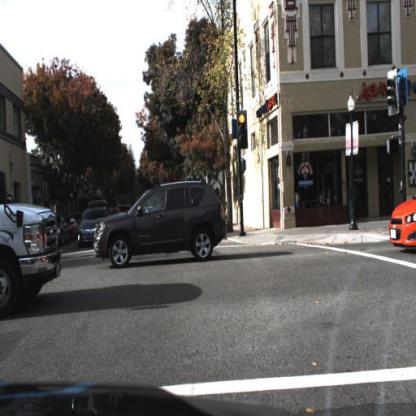car: (94, 180, 227, 270), (387, 189, 416, 257)
pedestrian: (406, 167, 416, 231)
trafficLight: (237, 111, 249, 152)
truck: (1, 173, 66, 324)
